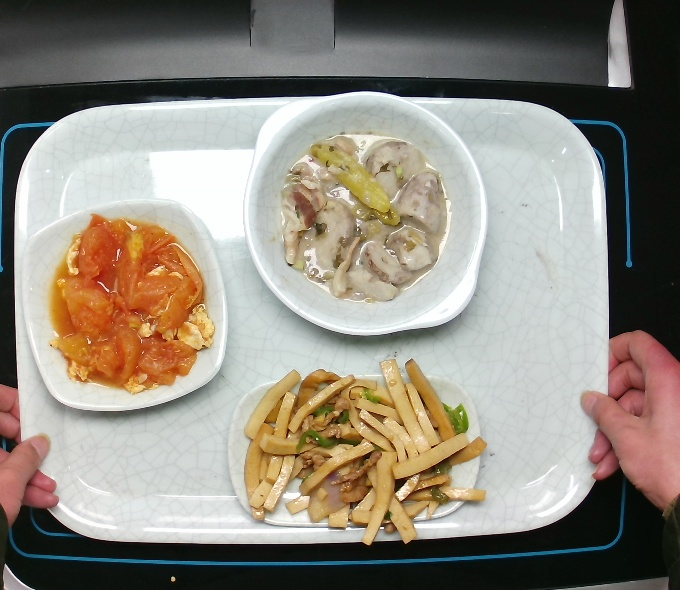wcq-FanQieChaoDan: (45, 211, 220, 396)
wcq-QianYeDouFu: (233, 359, 491, 544)
wcq-YangYu: (276, 126, 454, 304)
